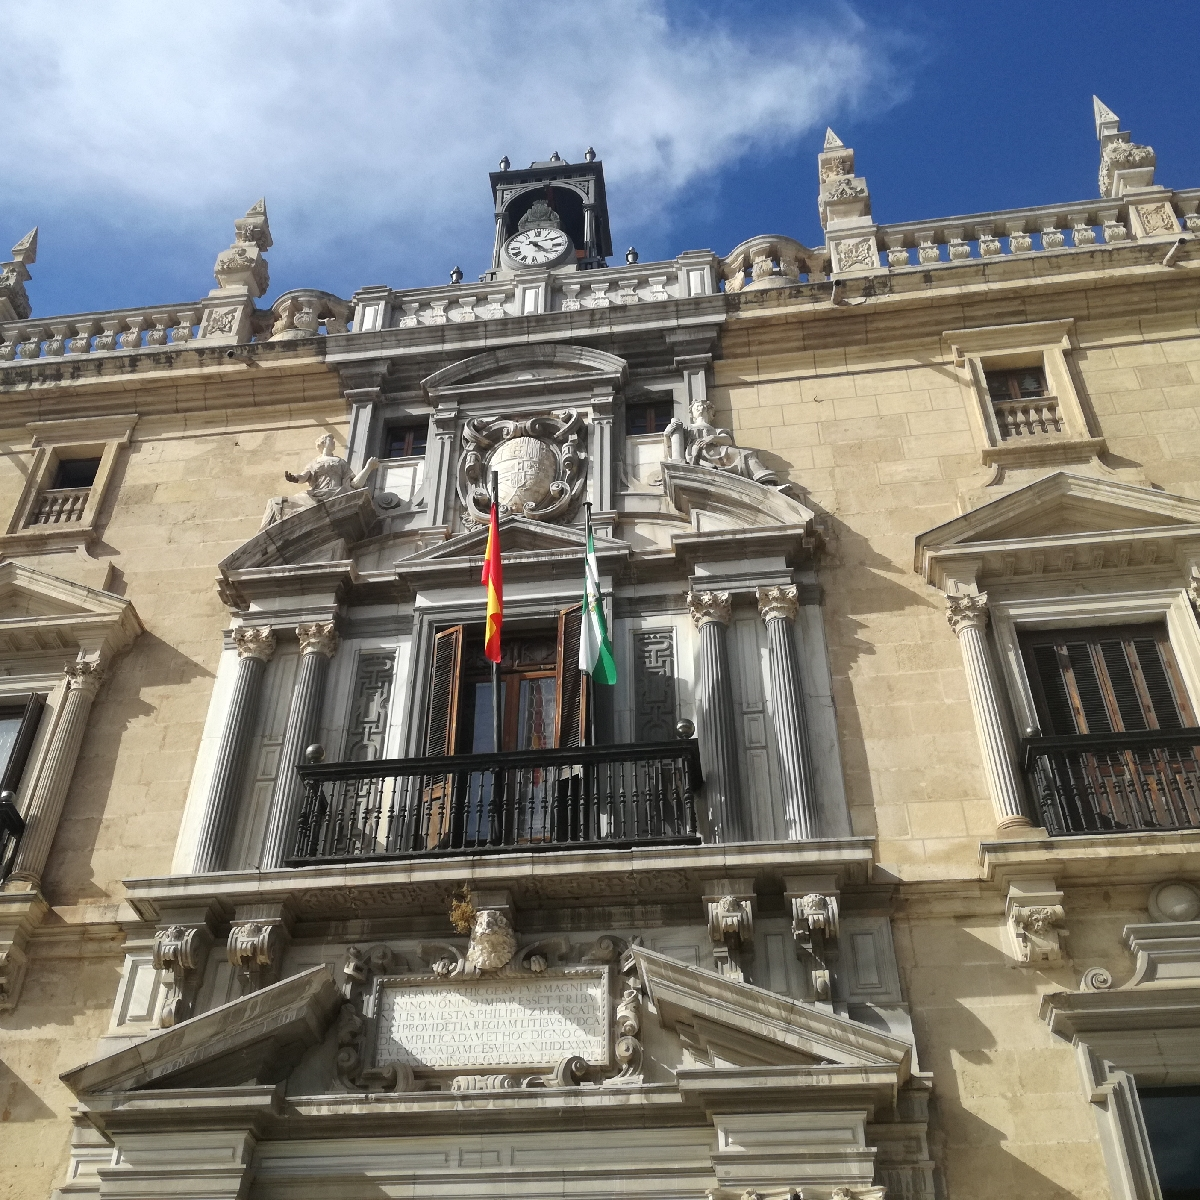fronton: (919, 464, 1198, 562), (397, 516, 611, 571)
fronton-curvo: (415, 347, 625, 405)
fronton-partido: (60, 941, 914, 1122), (227, 473, 816, 574)
vano-adintelado: (978, 578, 1200, 838), (396, 587, 590, 845)
